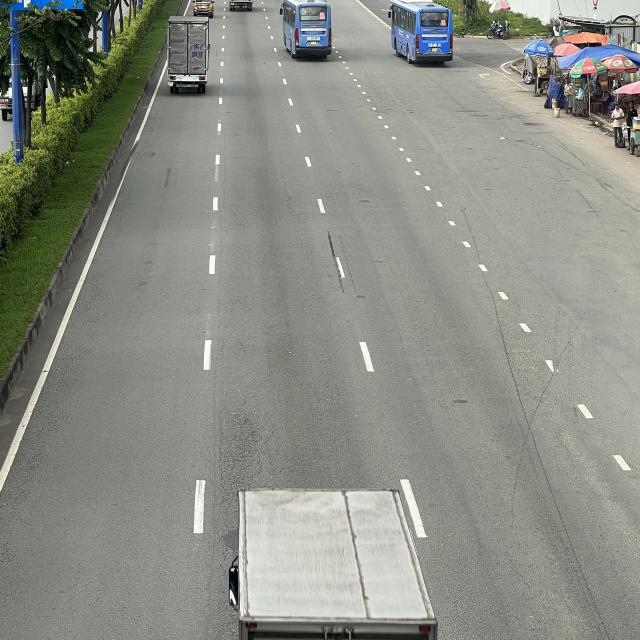car: (192, 2, 215, 20)
coach: (390, 0, 455, 64), (280, 0, 332, 59)
truck: (224, 489, 438, 640), (166, 12, 212, 96)
